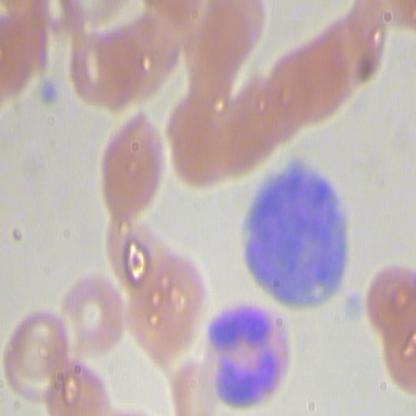Platelets: (341, 289, 365, 327), (34, 74, 58, 111)
RBC: (83, 113, 168, 234), (135, 245, 208, 348), (63, 258, 133, 360), (1, 291, 70, 393), (181, 14, 242, 105), (294, 29, 349, 126), (266, 47, 321, 143), (233, 73, 288, 169), (361, 244, 415, 341), (315, 15, 369, 111), (93, 19, 147, 109), (337, 1, 391, 85), (40, 353, 113, 415), (66, 20, 114, 111), (371, 305, 415, 402)
WBC: (228, 157, 353, 311), (202, 304, 298, 415)
